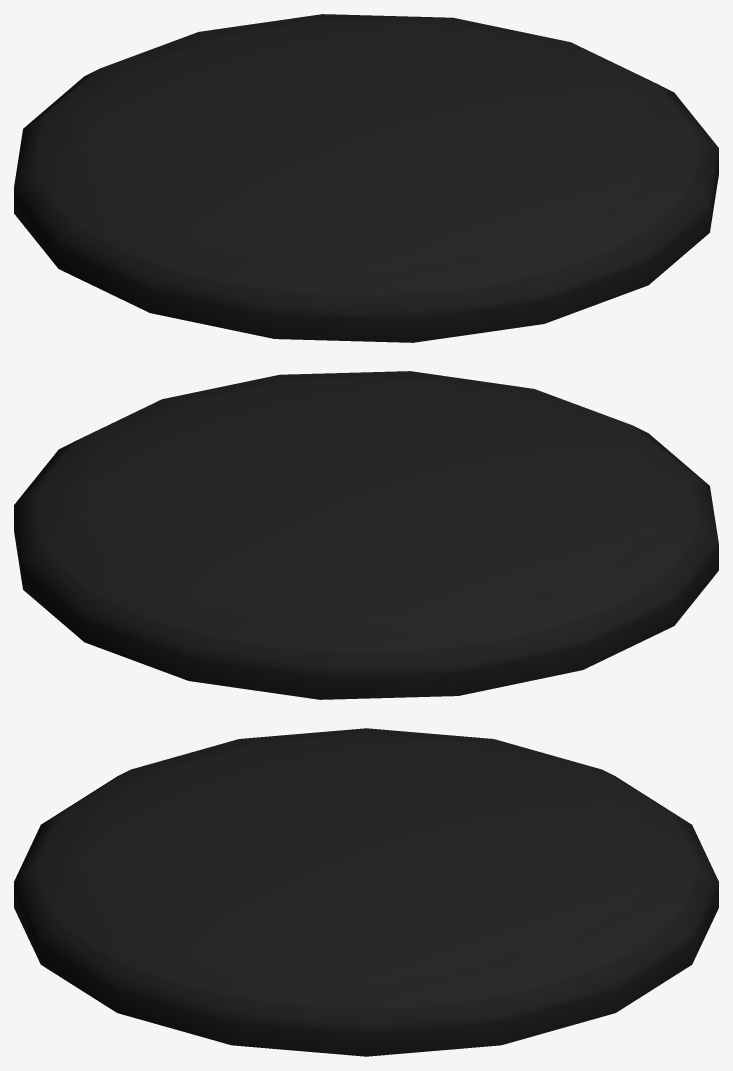
Rendered from shijian.FBX.
3 views of the same model, one above another, from view 1: azimuth 30°, elevation 25°; view 2: azimuth 150°, elevation 25°; view 3: azimuth 270°, elevation 25° (orthographic).
Visible parts, largest first — view 1: shijian002; view 2: shijian002; view 3: shijian002.
Boxes of the visible parts, box(x1,y1,x2,y2) form: shijian002: box(14, 14, 718, 342); shijian002: box(14, 371, 718, 699); shijian002: box(14, 728, 718, 1056).
Bounding box in the file's own units: 65.49 × 65.49 × 7.52.
1 material, 1 textured.
